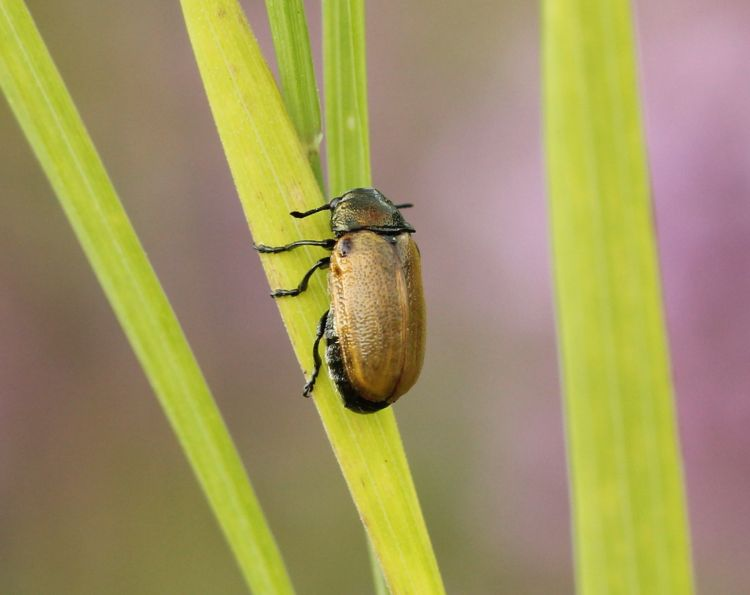Labidostomis_longimana: (251, 183, 440, 422)
